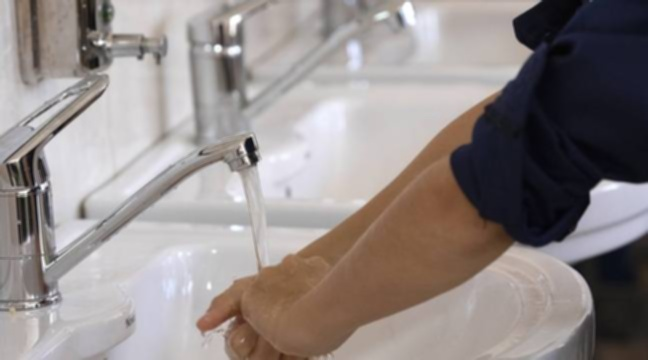washing hand: (22, 86, 415, 353)
